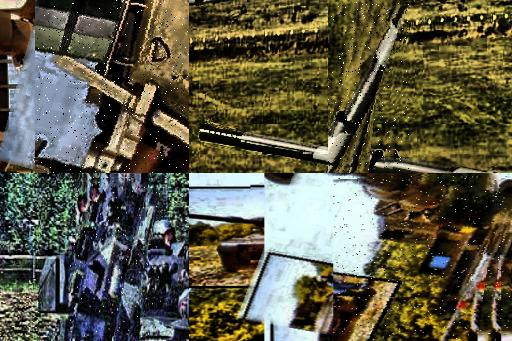tanks: (334, 177, 511, 341), (37, 1, 190, 174), (70, 177, 162, 341), (329, 3, 410, 174), (190, 215, 334, 274)
